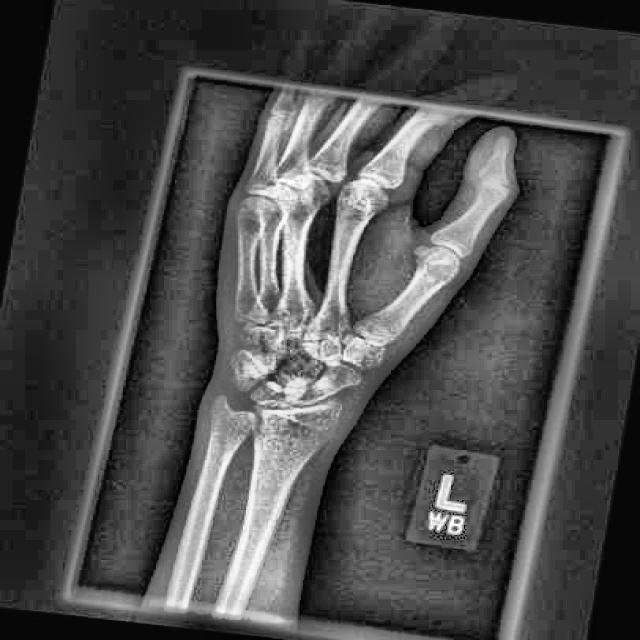wrist positive: (253, 403, 347, 460), (215, 364, 267, 400)
